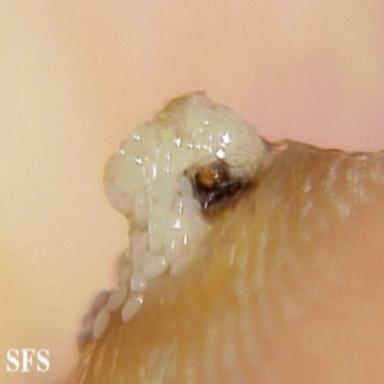Tungiasis: (79, 92, 283, 347)
